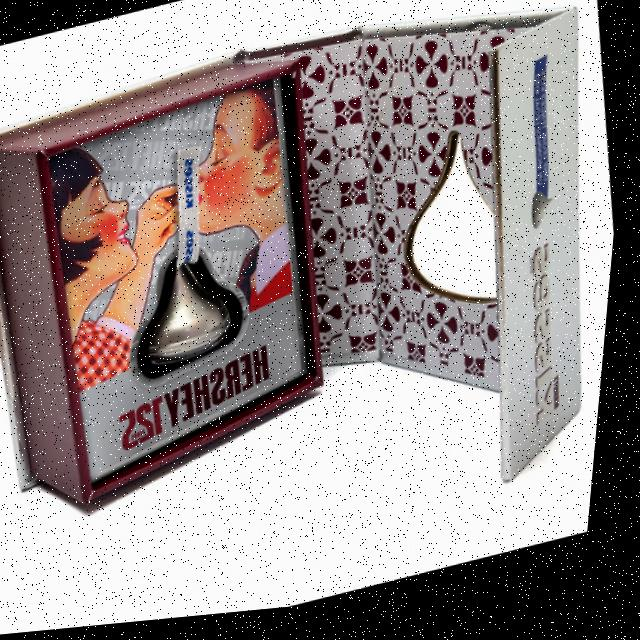kisses: (116, 155, 269, 392)
